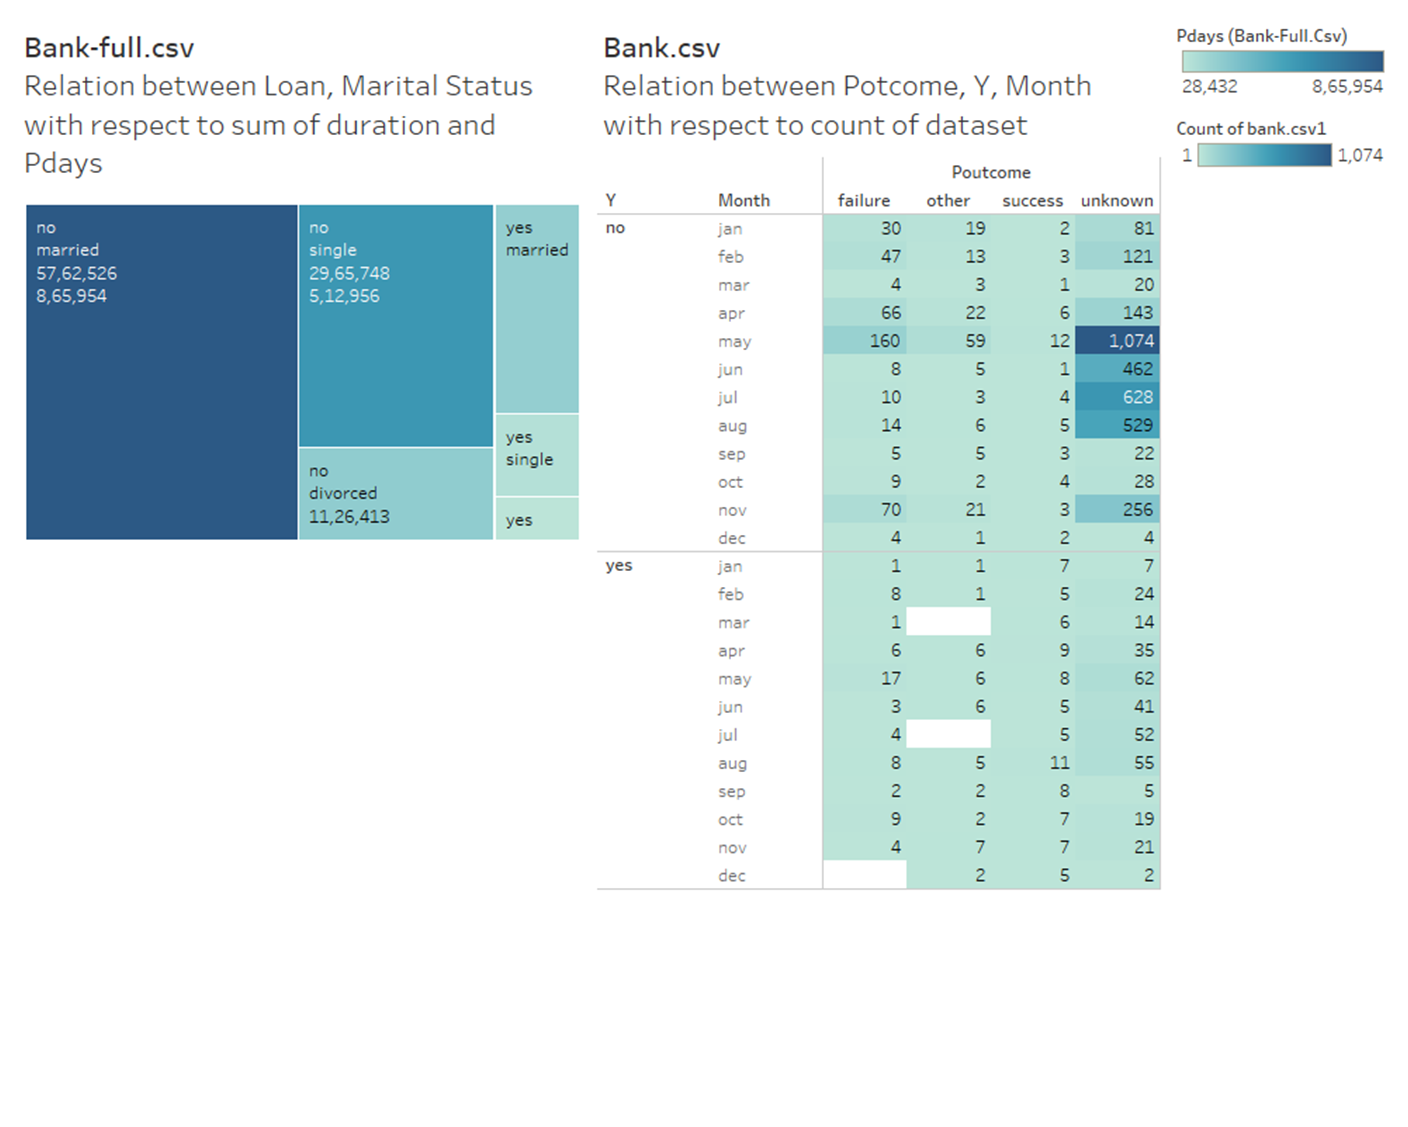

Layout of this report page (visuals, bound fields, positions):
{"tool":"tableau","page":{"name":"Dashboard 1","canvas":[1000,800],"ordinal":0},"visuals":[{"type":"worksheet","title":"Sheet 3","mark":"Automatic","box":[8,8,412,784]},{"type":"worksheet","title":"Sheet 4","mark":"Square","rows":["y","month"],"cols":["poutcome"],"box":[420,8,412,784]},{"type":"legend","title":"Sheet 3","param":"[federated.1iuugzy0r8b52j1bh1jbb0fz77mk].[sum:pdays (bank-full.csv):qk]","box":[832,8,160,73]},{"type":"legend","title":"Sheet 4","param":"[federated.1iuugzy0r8b52j1bh1jbb0fz77mk].[__tableau_internal_object_id__].[cnt:b","box":[832,81,160,73]}]}

Visuals, with their boxes in screenshot pixels (x1, y1, x2, y2), scaled from the page's 1000x800 canvas onto the 1408x1127 screenshot:
"Sheet 3" worksheet: {"left": 11, "top": 11, "right": 591, "bottom": 1116}
"Sheet 4" worksheet (Square marks): {"left": 591, "top": 11, "right": 1171, "bottom": 1116}
"Sheet 3" legend: {"left": 1171, "top": 11, "right": 1397, "bottom": 114}
"Sheet 4" legend: {"left": 1171, "top": 114, "right": 1397, "bottom": 217}
